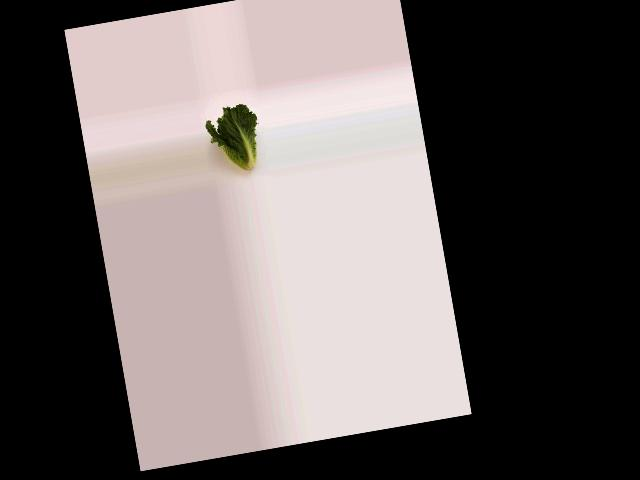lettuce: (205, 99, 268, 183)
